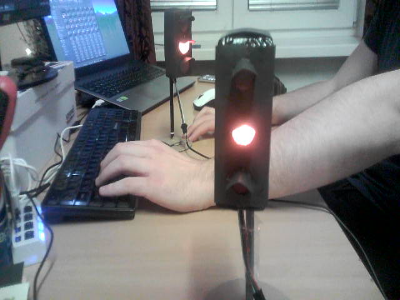trafficlight_red: (216, 40, 268, 208), (173, 14, 193, 76)
